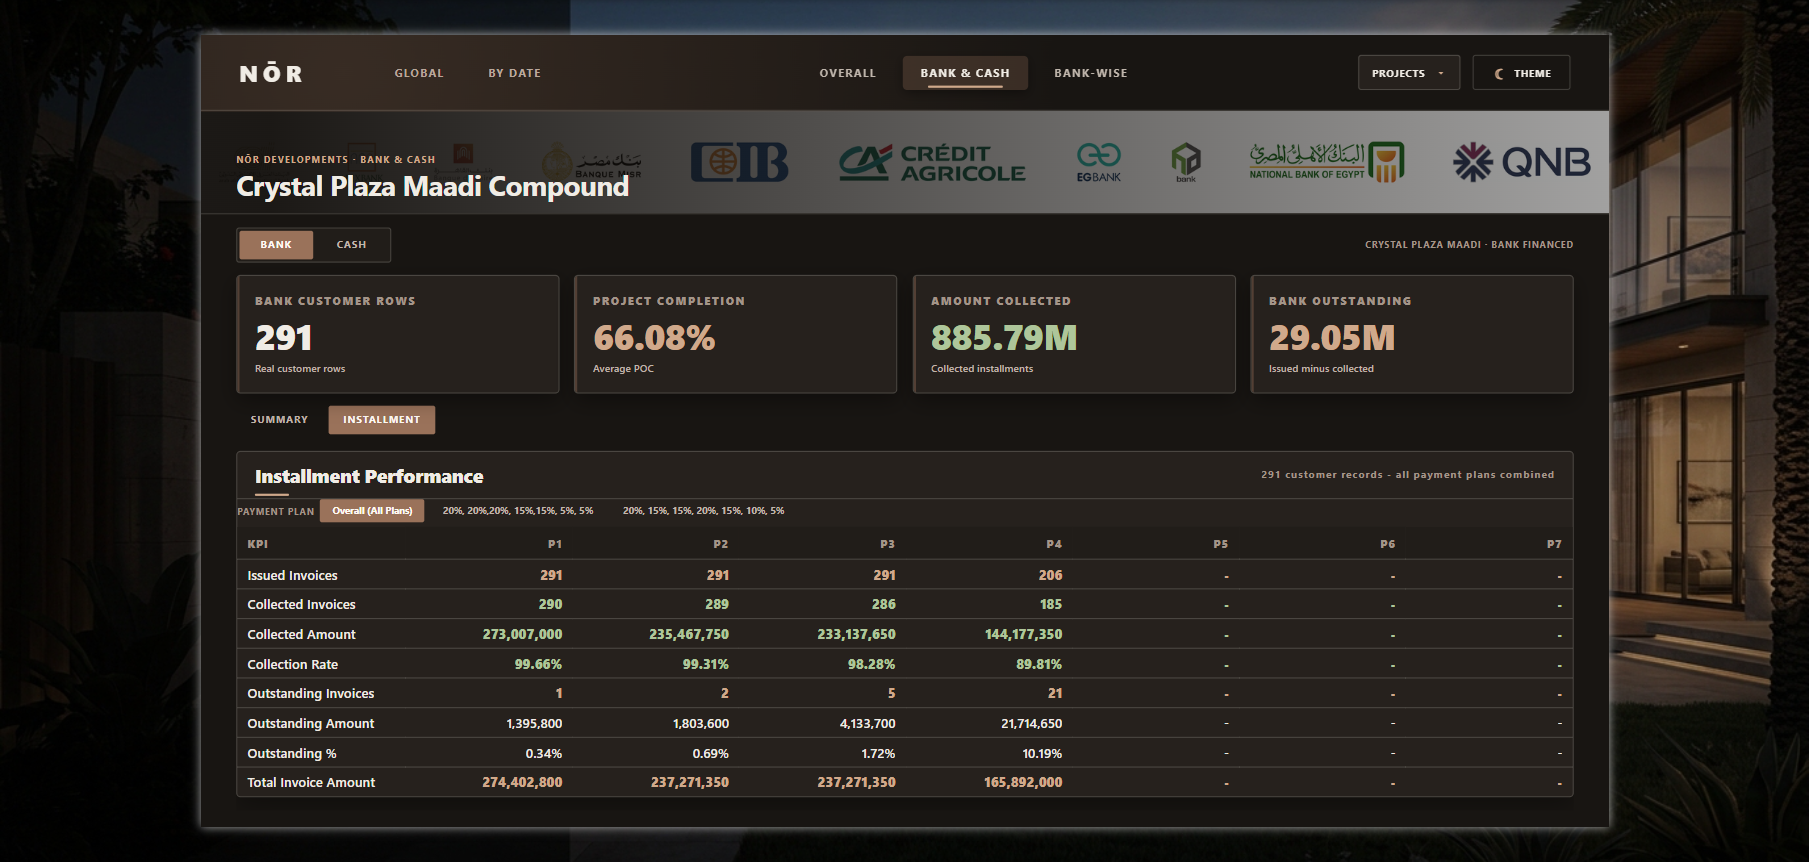

What the dashboard file says about the page in this screenshot:
{"tool":"powerbi","page":{"name":"Crystal Plaza Maadi","canvas":[1280,720],"ordinal":3},"visuals":[{"type":"htmlContent443BE3AD55E043BF878BED274D3A6855","fields":{"content":["HTML Visuals.HTML_CrystalPlaza_OnePage"]},"box":[0,0,1280,720],"z":0}]}

Visuals, with their boxes on the page's 1280x720 design canvas (x1, y1, x2, y2). These are canvas units, not pixel positions in the 1809x862 screenshot, which may show the page scaled, cropped or inside an application window:
htmlContent443BE3AD55E043BF878BED274D3A6855 - HTML Visuals.HTML_CrystalPlaza_OnePage: locate(0, 0, 1280, 720)
